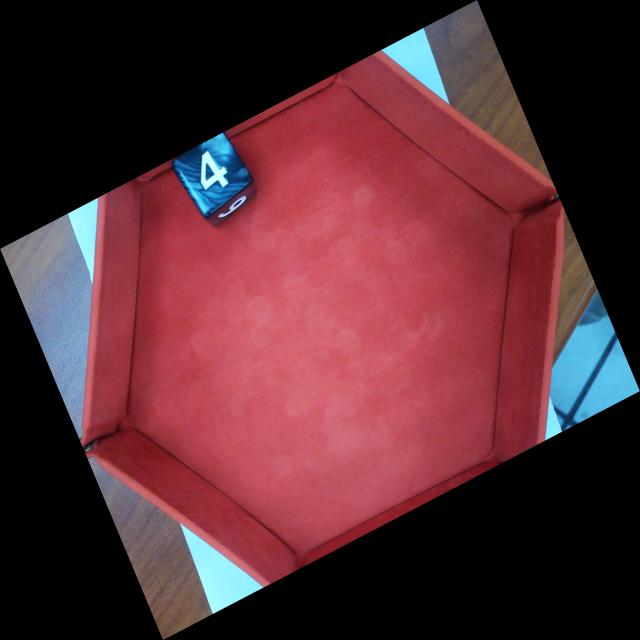dice: (168, 131, 255, 219)
